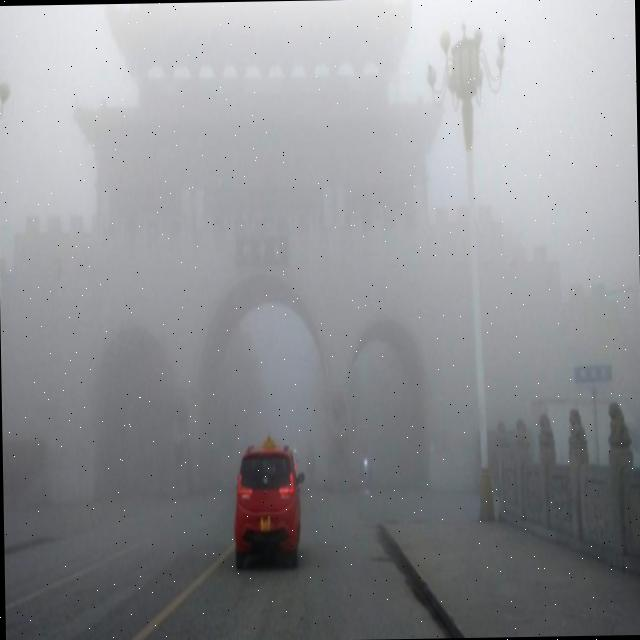car: (233, 444, 305, 568)
